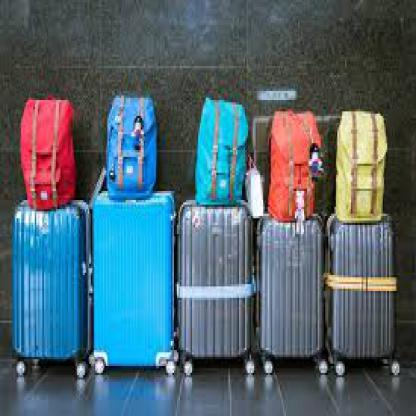maleta: (86, 186, 182, 382), (4, 193, 97, 380), (174, 189, 260, 382), (322, 202, 407, 391), (252, 207, 330, 380)
morral: (186, 86, 251, 214), (330, 104, 393, 236), (262, 100, 324, 230), (15, 88, 77, 214), (103, 89, 162, 204)
